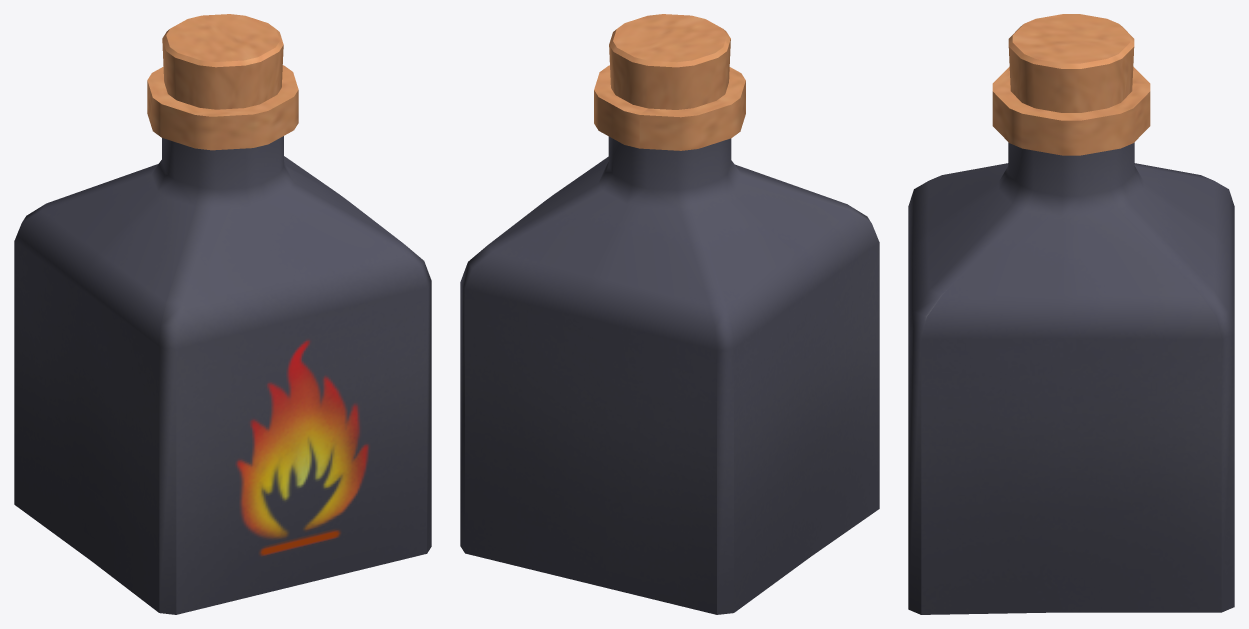
The model's file is Bottle_02_C2_001.fbx.
The picture shows the model from 3 angles, left to right: view 1: azimuth 30°, elevation 25°; view 2: azimuth 150°, elevation 25°; view 3: azimuth 270°, elevation 25°; orthographic projection. The views are drawn at different scales.
Parts seen in each view (by area): view 1: Bottle_02_C2_001; view 2: Bottle_02_C2_001; view 3: Bottle_02_C2_001.
Part boxes in pixels (bbox=[...]): Bottle_02_C2_001: bbox=[14, 14, 431, 614]; Bottle_02_C2_001: bbox=[460, 14, 879, 614]; Bottle_02_C2_001: bbox=[908, 14, 1234, 614].
Bounding box in the file's own units: 10.68 × 18.31 × 10.68.
